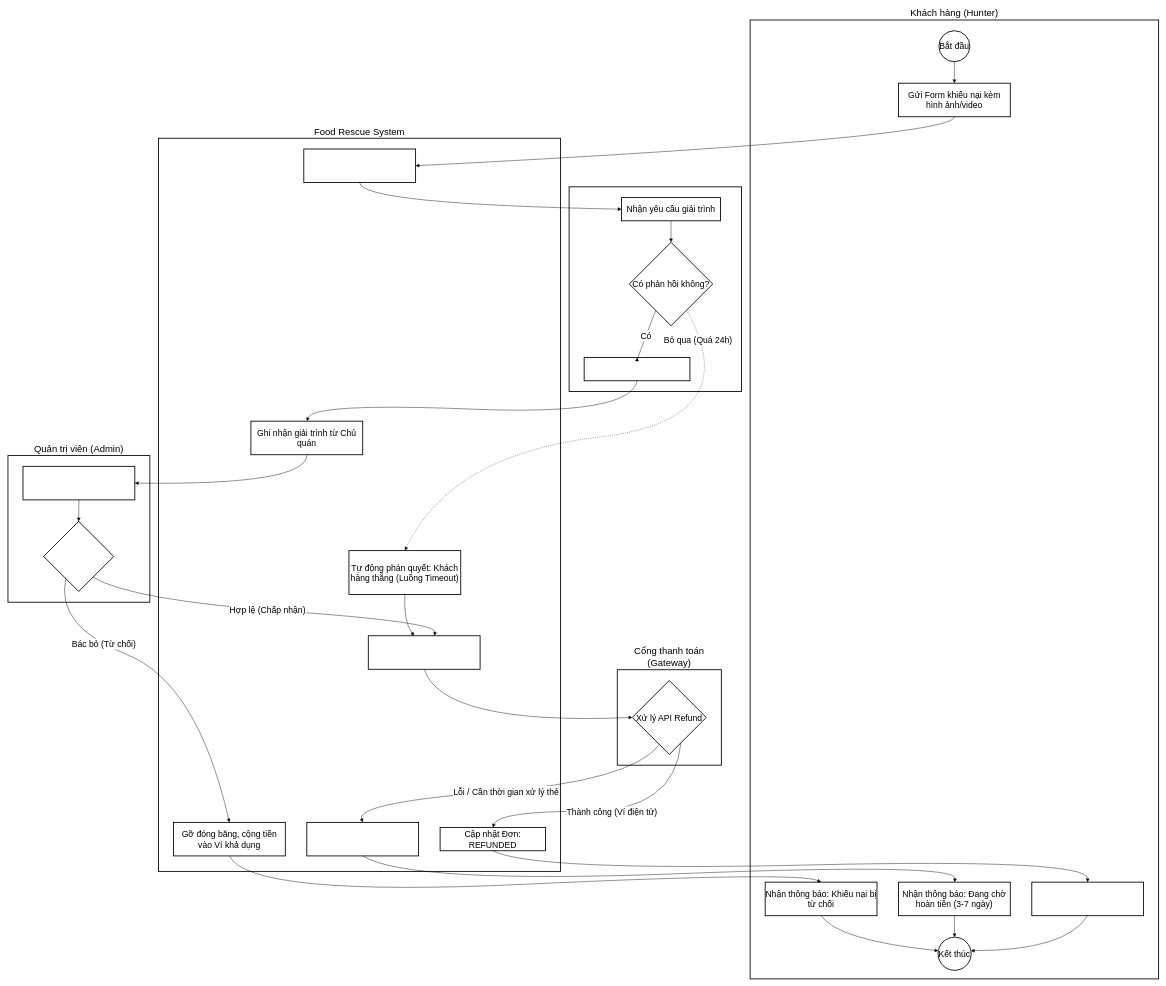
This 1166x986 diagram has some shape labels left out. The box of each missing label's shape, as (x1, y1, x2, y2) in pixels:
Chủ quán (Partner): (568, 186, 742, 392)
Cập nhật Đơn: DISPUTED & Đóng băng Ví: (303, 148, 416, 183)
Cập nhật Đơn: REFUND_PENDING: (306, 822, 419, 856)
Gửi bằng chứng giải trình: (584, 357, 690, 381)
Khởi tạo lệnh Hoàn tiền (Refund): (368, 635, 480, 670)
Nhận thông báo: Hoàn tiền thành công: (1031, 882, 1144, 916)
Ra phán quyết?: (43, 521, 114, 592)
Xem xét bằng chứng 2 bên (Dashboard): (22, 466, 135, 500)
